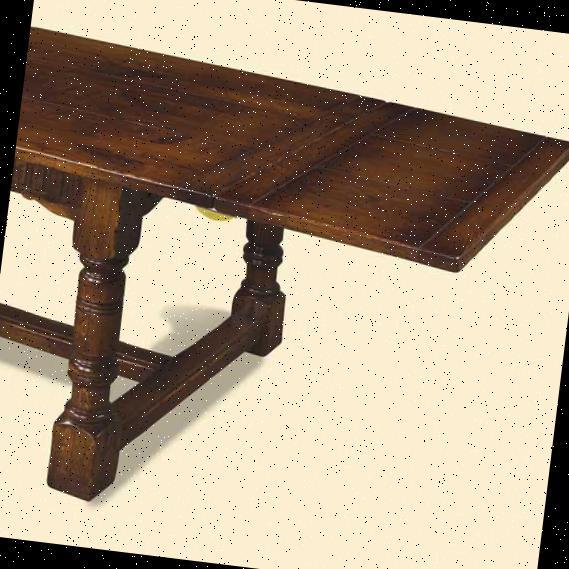Mesa: (0, 19, 568, 552)
